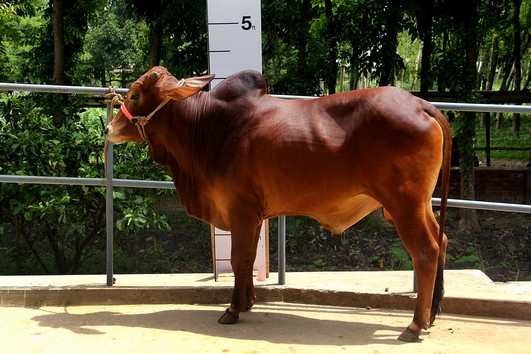cow: (98, 55, 457, 345)
